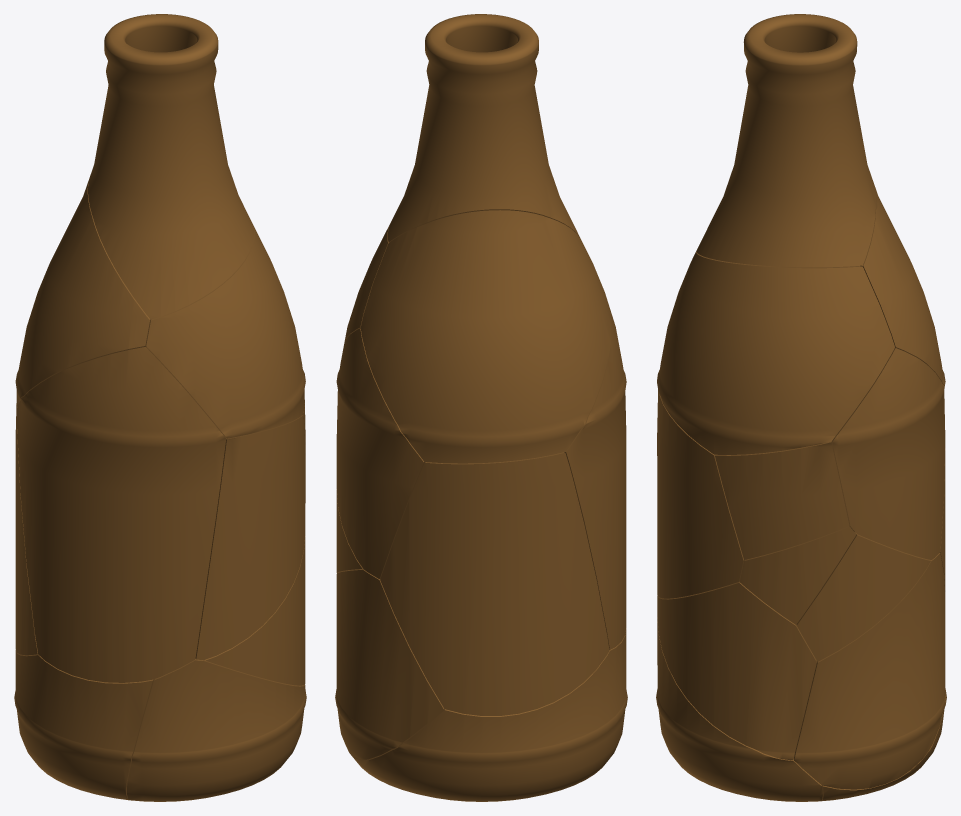
Rendered from bottle_stubby_shards.glb.
3 views of the same model, side by side, from view 1: azimuth 30°, elevation 25°; view 2: azimuth 150°, elevation 25°; view 3: azimuth 270°, elevation 25° (orthographic).
Visible parts, largest first — view 1: Shard_02, Shard_01, Shard_04, Shard_06, Shard_08, Shard_00, Shard_03, Shard_10, Shard_05; view 2: Shard_03, Shard_05, Shard_01, Shard_00, Shard_07, Shard_09, Shard_02, Shard_06, Shard_12; view 3: Shard_06, Shard_01, Shard_07, Shard_10, Shard_09, Shard_08, Shard_11, Shard_04, Shard_12, Shard_03, Shard_13, Shard_00.
Part boxes in pixels (left/top/right/bottom): Shard_02: left=17, top=347, right=226, bottom=682; Shard_01: left=88, top=14, right=253, bottom=319; Shard_04: left=127, top=659, right=306, bottom=801; Shard_06: left=146, top=225, right=305, bottom=438; Shard_08: left=195, top=415, right=305, bottom=659; Shard_00: left=14, top=650, right=154, bottom=800; Shard_03: left=15, top=179, right=150, bottom=407; Shard_10: left=204, top=536, right=305, bottom=685; Shard_05: left=15, top=403, right=37, bottom=655; Shard_03: left=360, top=210, right=610, bottom=463; Shard_05: left=380, top=452, right=609, bottom=715; Shard_01: left=388, top=14, right=579, bottom=242; Shard_00: left=350, top=628, right=627, bottom=801; Shard_07: left=335, top=569, right=443, bottom=759; Shard_09: left=336, top=328, right=425, bottom=578; Shard_02: left=564, top=298, right=626, bottom=649; Shard_06: left=343, top=223, right=390, bottom=346; Shard_12: left=336, top=489, right=363, bottom=573; Shard_06: left=657, top=251, right=894, bottom=454; Shard_01: left=696, top=14, right=875, bottom=267; Shard_07: left=794, top=553, right=945, bottom=789; Shard_10: left=657, top=581, right=816, bottom=760; Shard_09: left=831, top=348, right=945, bottom=559; Shard_08: left=657, top=389, right=744, bottom=598; Shard_11: left=715, top=441, right=849, bottom=559; Shard_04: left=656, top=618, right=822, bottom=801; Shard_12: left=796, top=532, right=930, bottom=661; Shard_03: left=860, top=183, right=945, bottom=390; Shard_13: left=740, top=526, right=856, bottom=624; Shard_00: left=820, top=688, right=946, bottom=801.
Size of the model in its own units: 0.0682 by 0.1838 by 0.0678.
